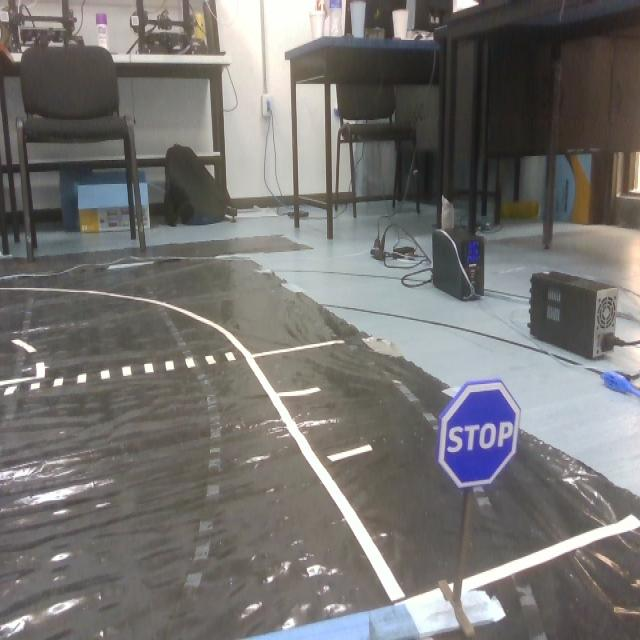no_entry: (443, 376, 521, 492)
